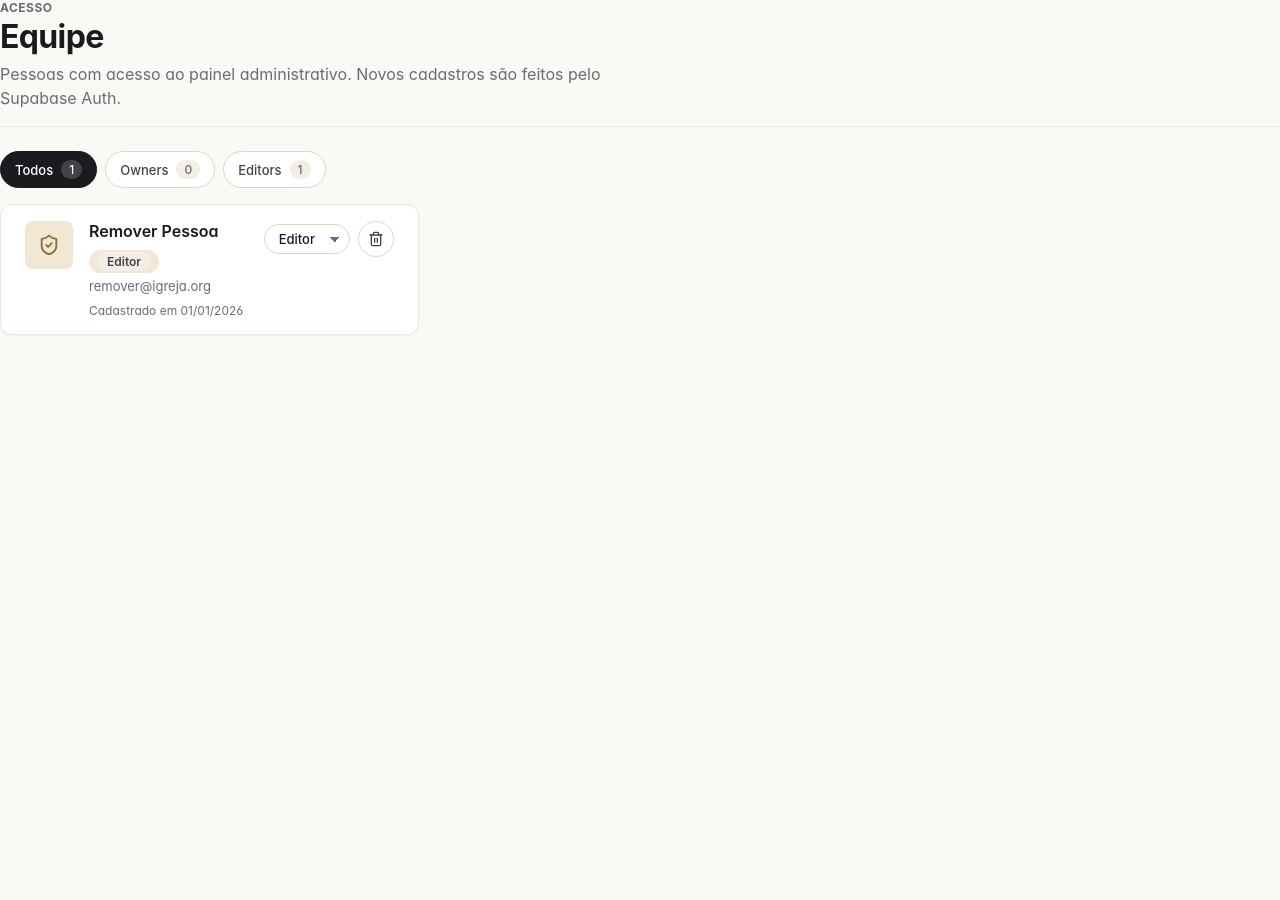
Test: TeamView › removes admin after confirmation
Expected: the heading "Remover Pessoa" is shown, [89,221,218,242]
Click the button named "Remover Remover Pessoa" at (376, 239), box [358,221,394,257]
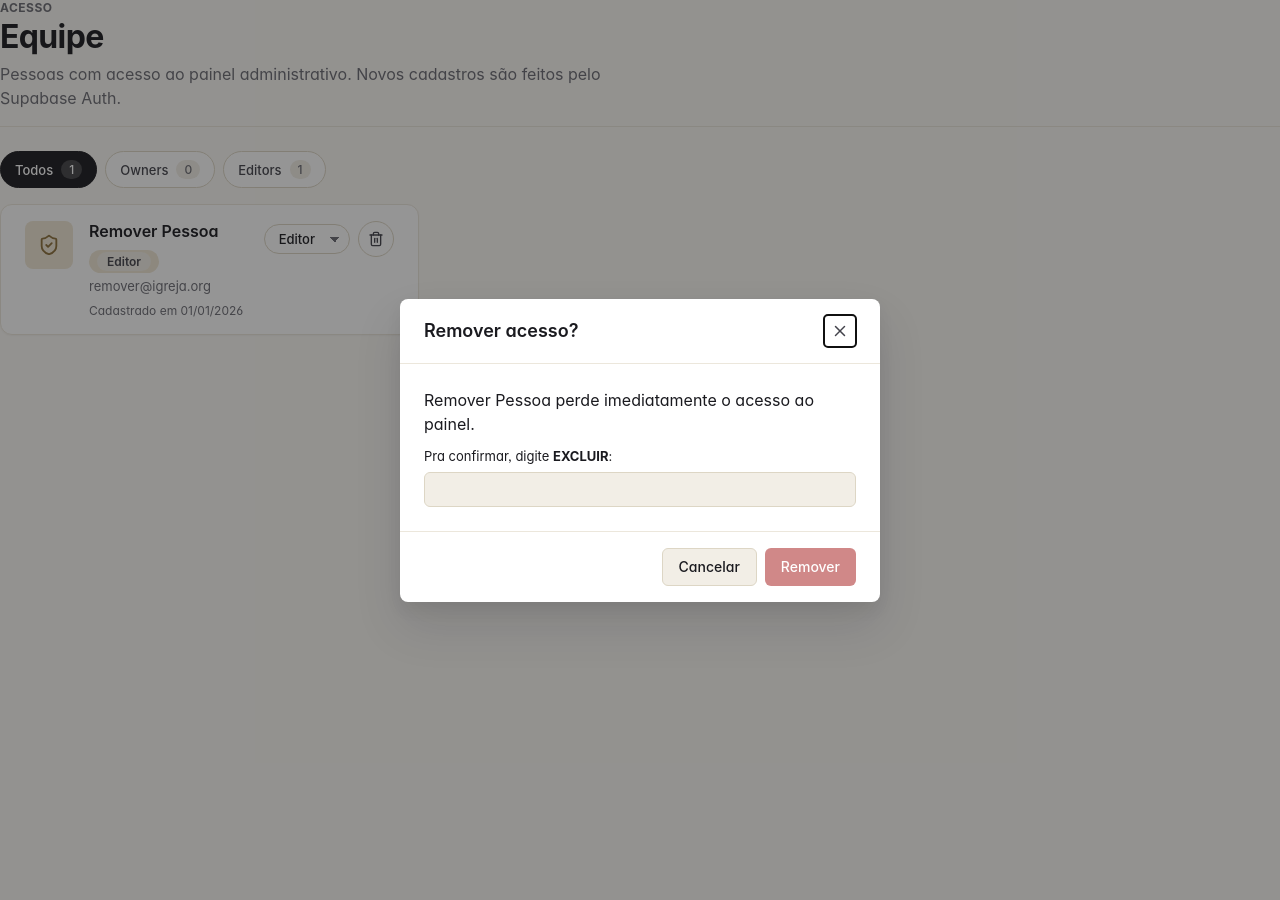
Type "EXCLUIR" into the field named "Digite EXCLUIR para confirmar" at (640, 489), box [424,472,856,506]
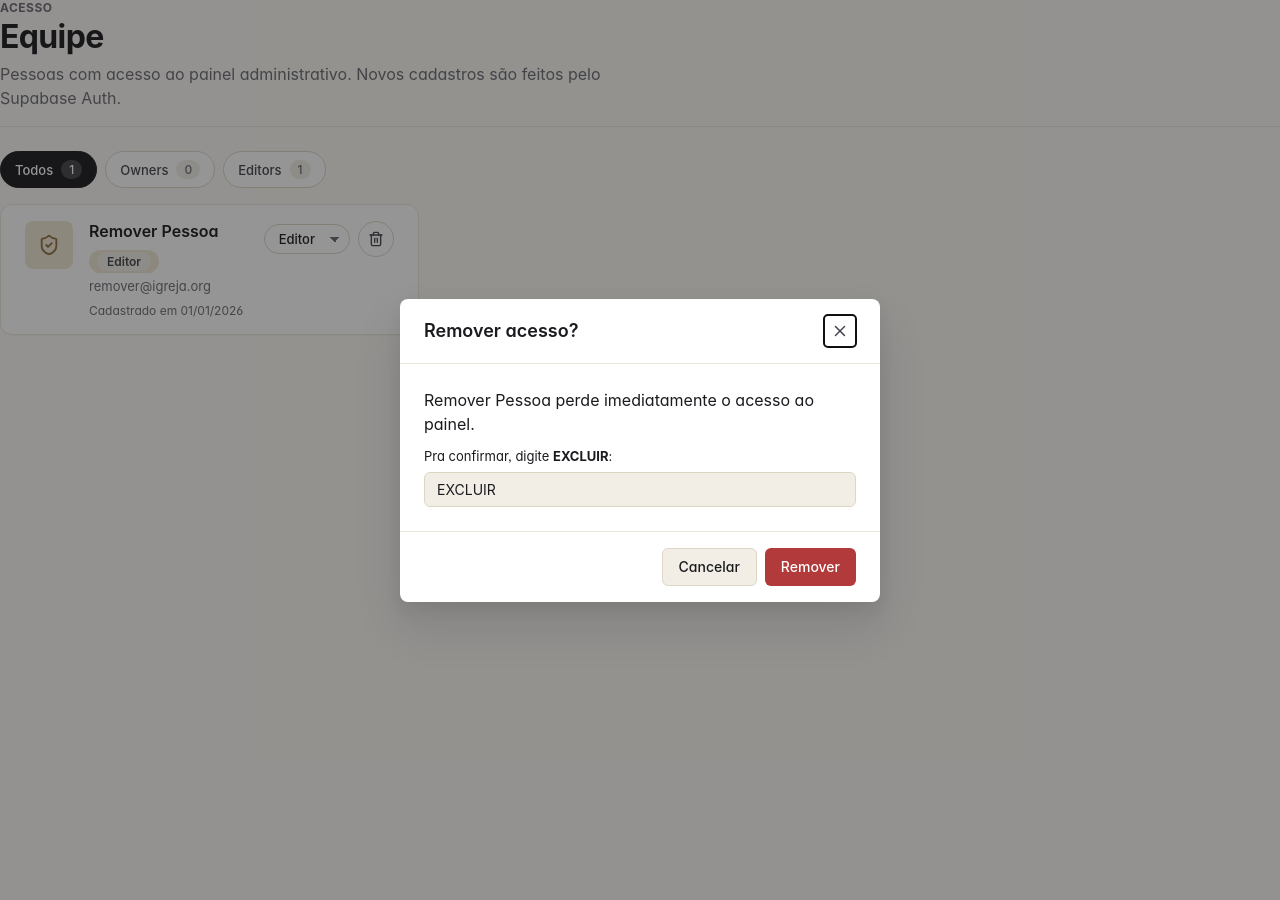
Click the button with test id "confirm-dialog-confirm" at (810, 566), box [765,548,856,586]
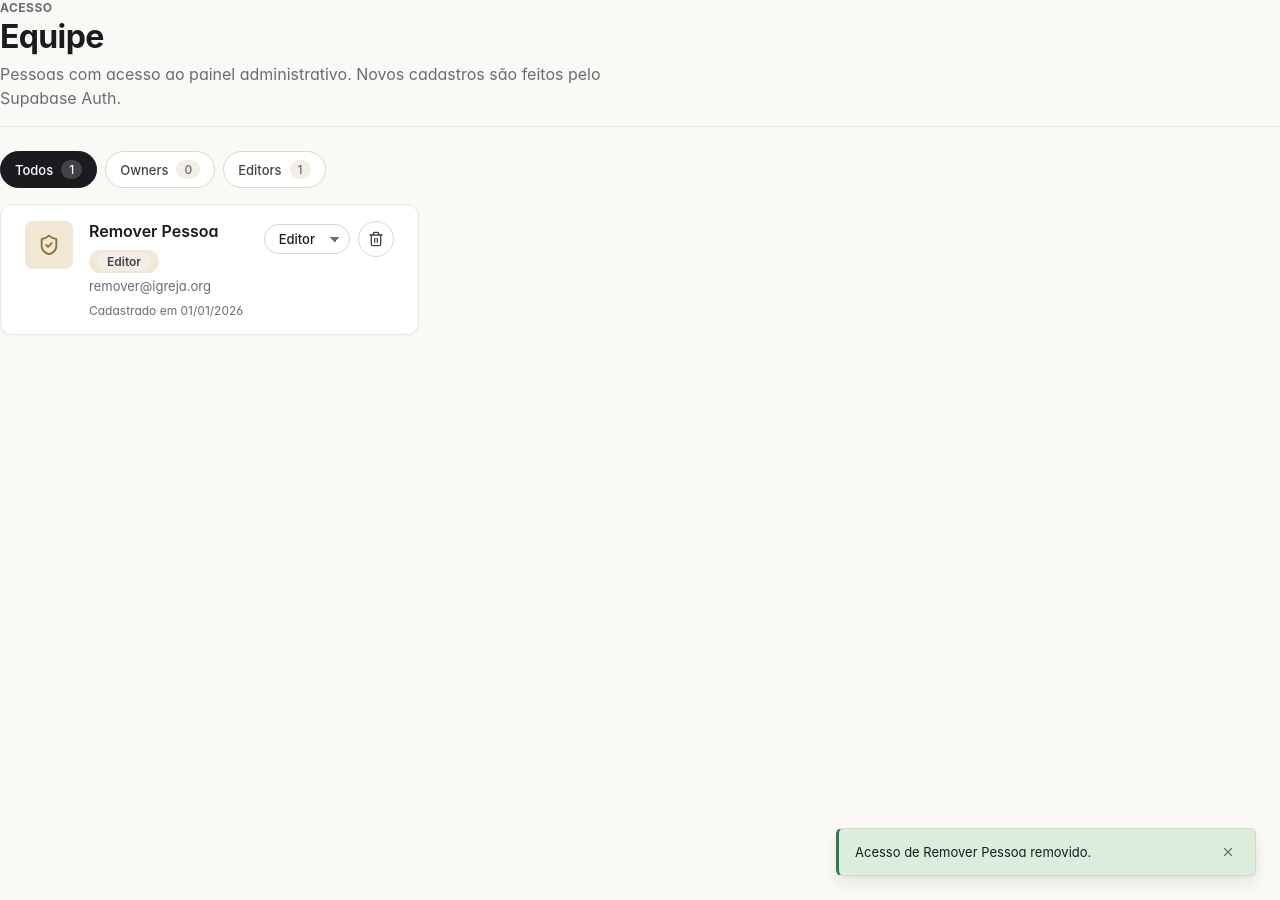
Expected: the text "Acesso de Remover Pessoa removido." is shown, [855,844,1091,860]
